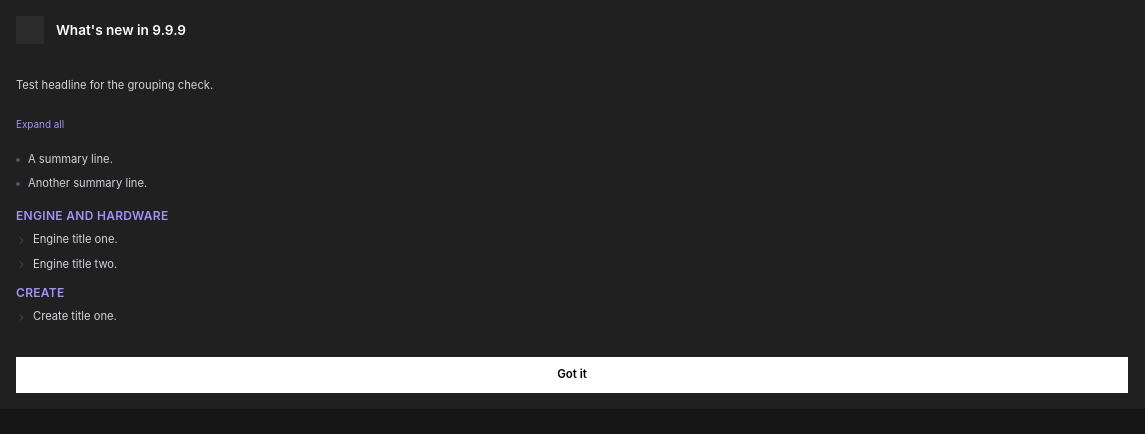
Test case: grouped changes › opens one row on click and shows only that row's detail, aria-expanded and all
Click the button "Engine title one." at (75,239), box [16, 230, 1128, 249]
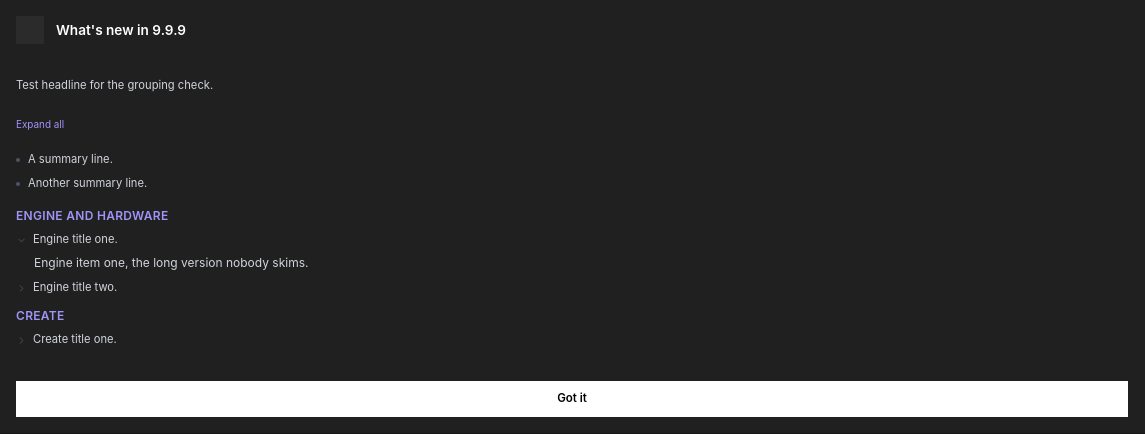
Check: the text "Engine item one, the long version nobody skims." is shown, box [34, 255, 308, 270]
